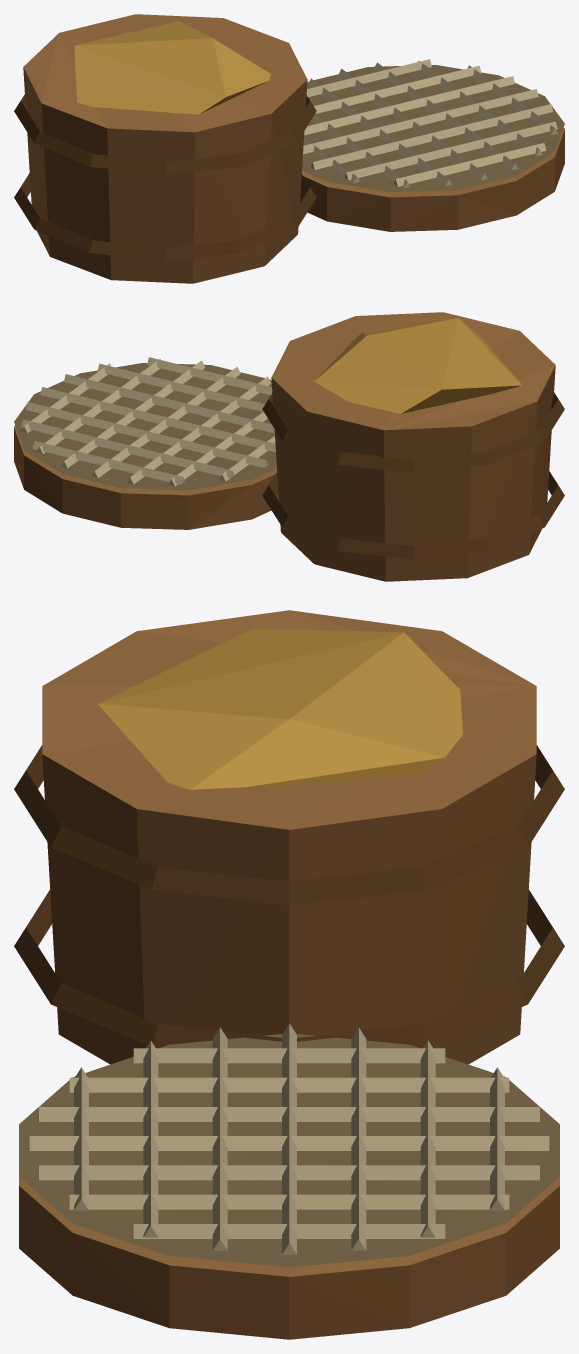
Rendered from measure.glb.
3 views of the same model, one above another, from view 1: azimuth 30°, elevation 25°; view 2: azimuth 150°, elevation 25°; view 3: azimuth 270°, elevation 25° (orthographic). The views are drawn at different scales.
Parts seen in each view (by area): view 1: base; view 2: base; view 3: base.
Part boxes in pixels (x1,y1,x2,y2): base: (14,14,564,283); base: (14,312,564,581); base: (14,610,564,1339).
Bounding box in the file's own units: 0.3095 × 0.1036 × 0.1589.
